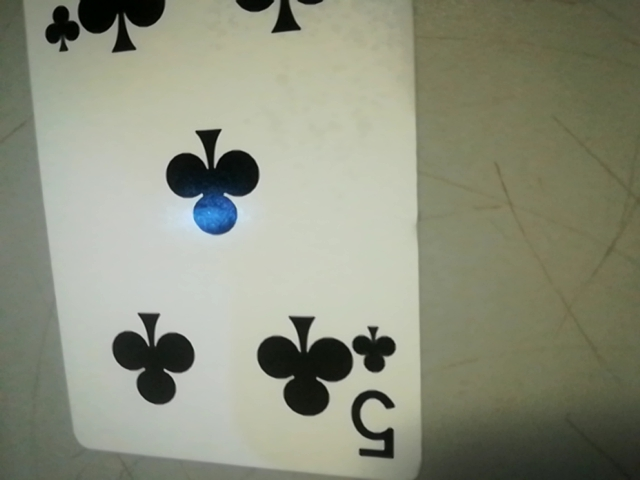mh 5: (351, 321, 400, 459)
